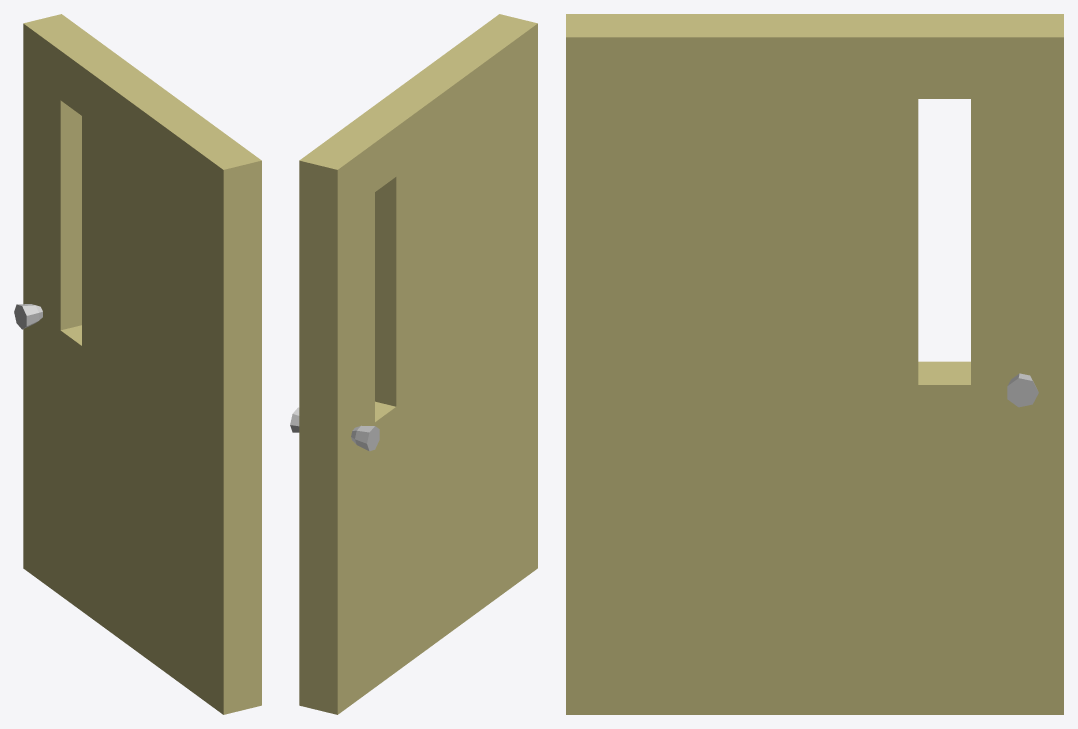
File: door.fbx
3 views of the same model, side by side, from view 1: azimuth 30°, elevation 25°; view 2: azimuth 150°, elevation 25°; view 3: azimuth 270°, elevation 25° (orthographic). The views are drawn at different scales.
Visible parts, largest first — view 1: Door.001; view 2: Door.001; view 3: Door.001.
Part boxes in pixels (bbox=[...]): Door.001: bbox=[14, 14, 261, 714]; Door.001: bbox=[290, 14, 537, 714]; Door.001: bbox=[566, 14, 1063, 714].
Size of the model in its own units: 39.96 by 270 by 180.
